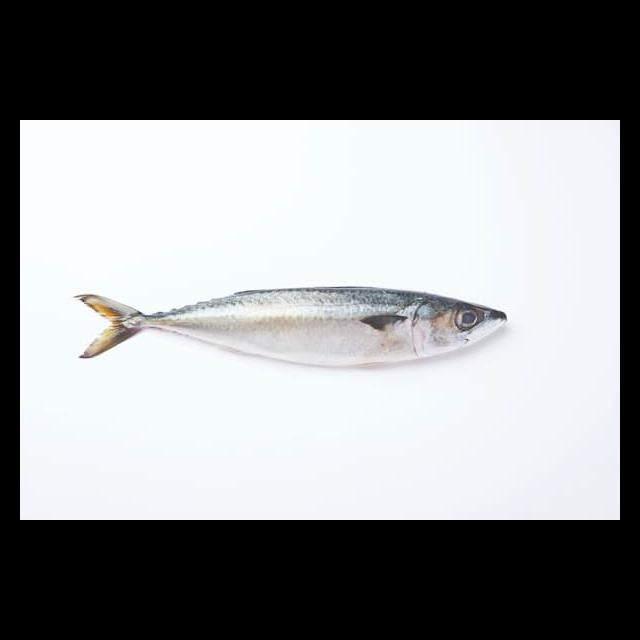fish: (67, 264, 519, 398)
